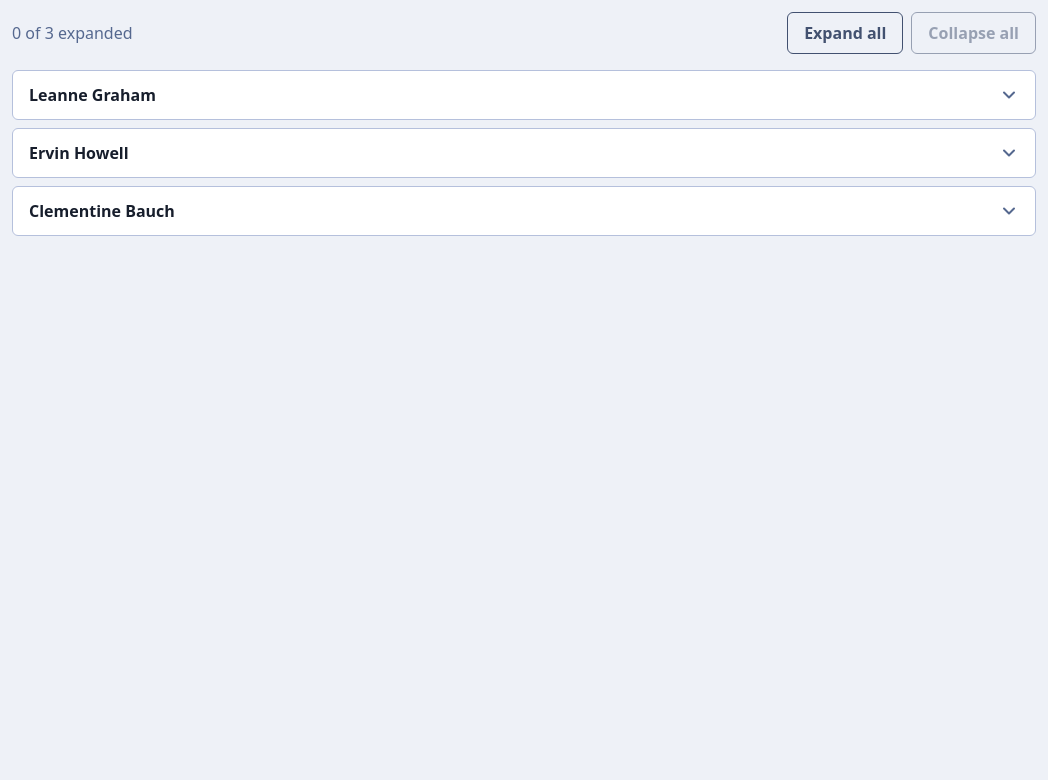
Test: UserList › collapses a single name without affecting the others
The width and height of the screenshot is (1048, 780).
Click the button "Leanne Graham".
click(92, 95)  # box [13, 71, 1035, 119]
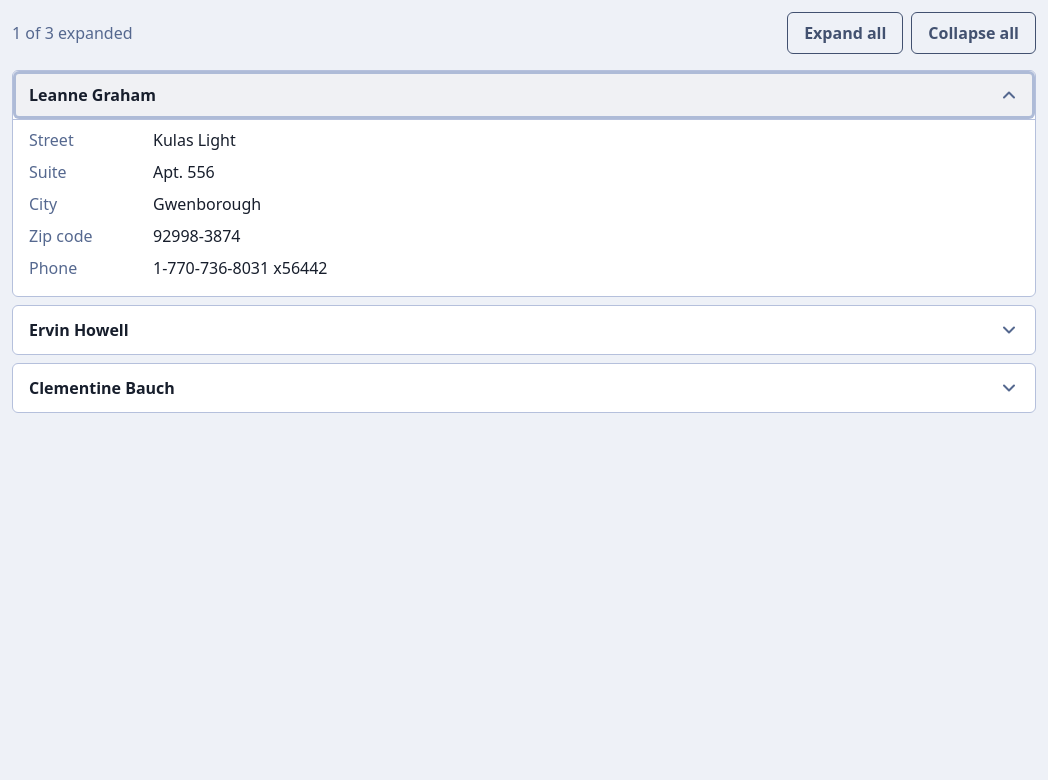
Click the button "Ervin Howell".
click(79, 330)  # box [13, 306, 1035, 354]
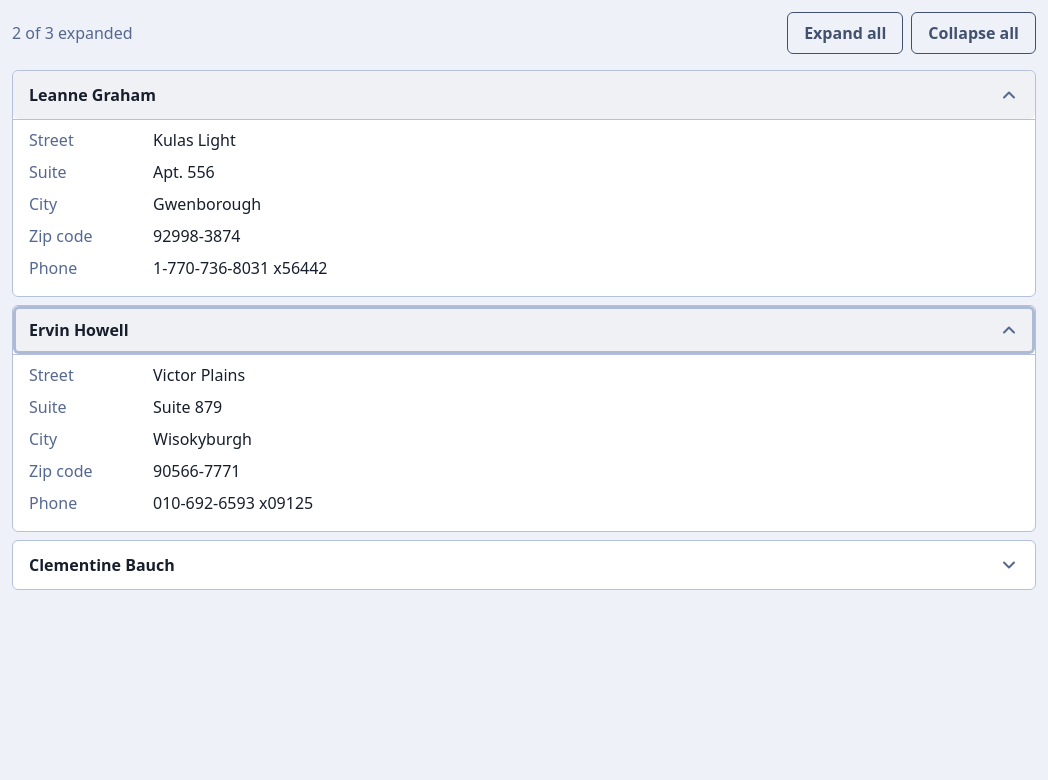
Click the button "Leanne Graham".
click(92, 95)  # box [13, 71, 1035, 119]
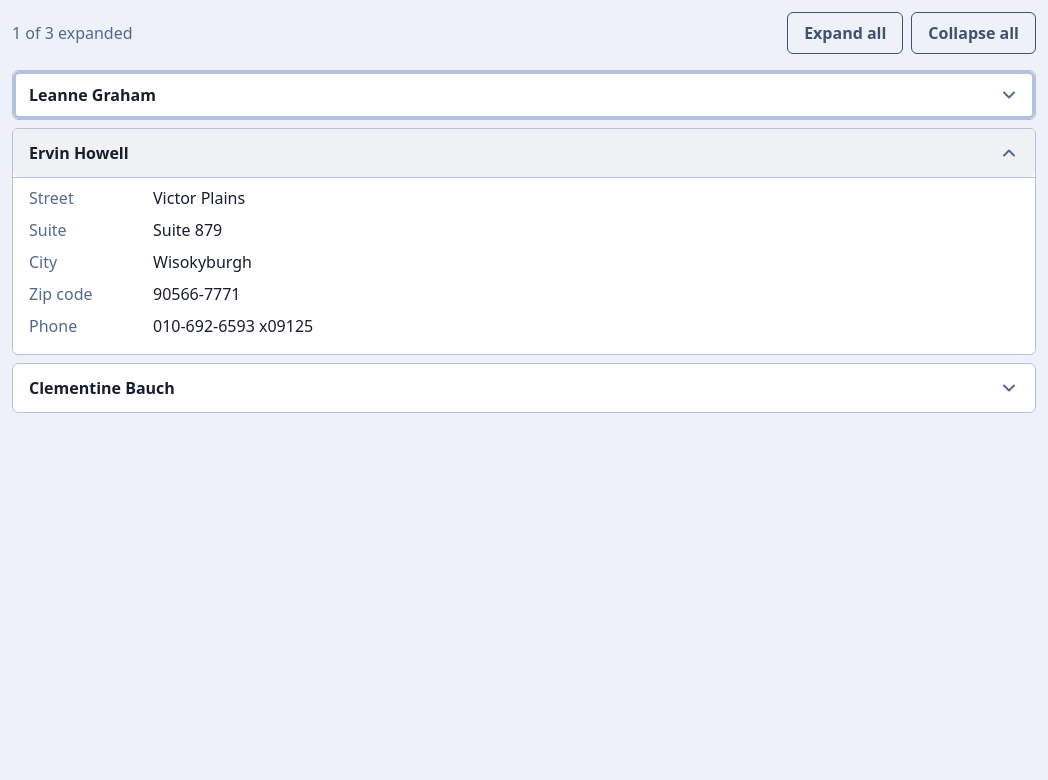
Expected: the text "Victor Plains" is shown, [153, 187, 245, 209]
Expected: the button "Leanne Graham" is collapsed, [13, 71, 1035, 119]
